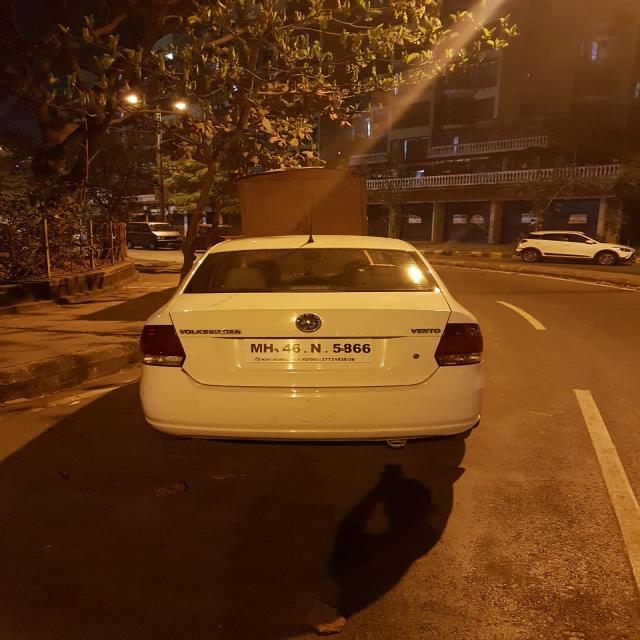Number-Plate: (242, 341, 375, 357)
